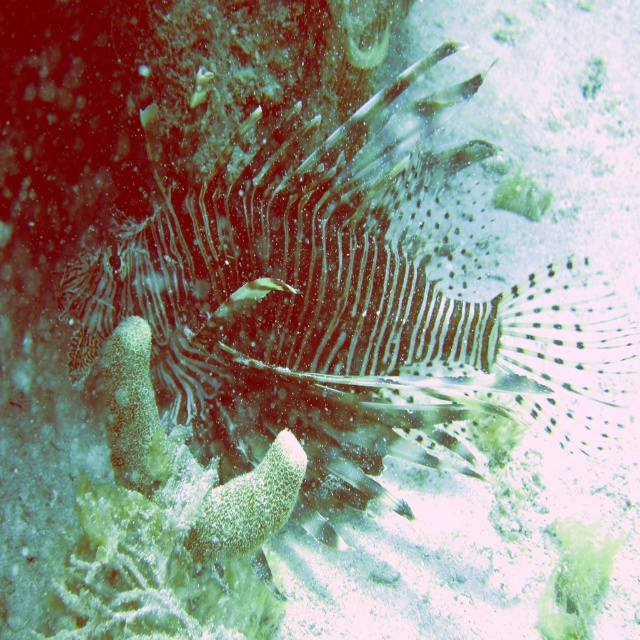Fish: (42, 43, 640, 610)
